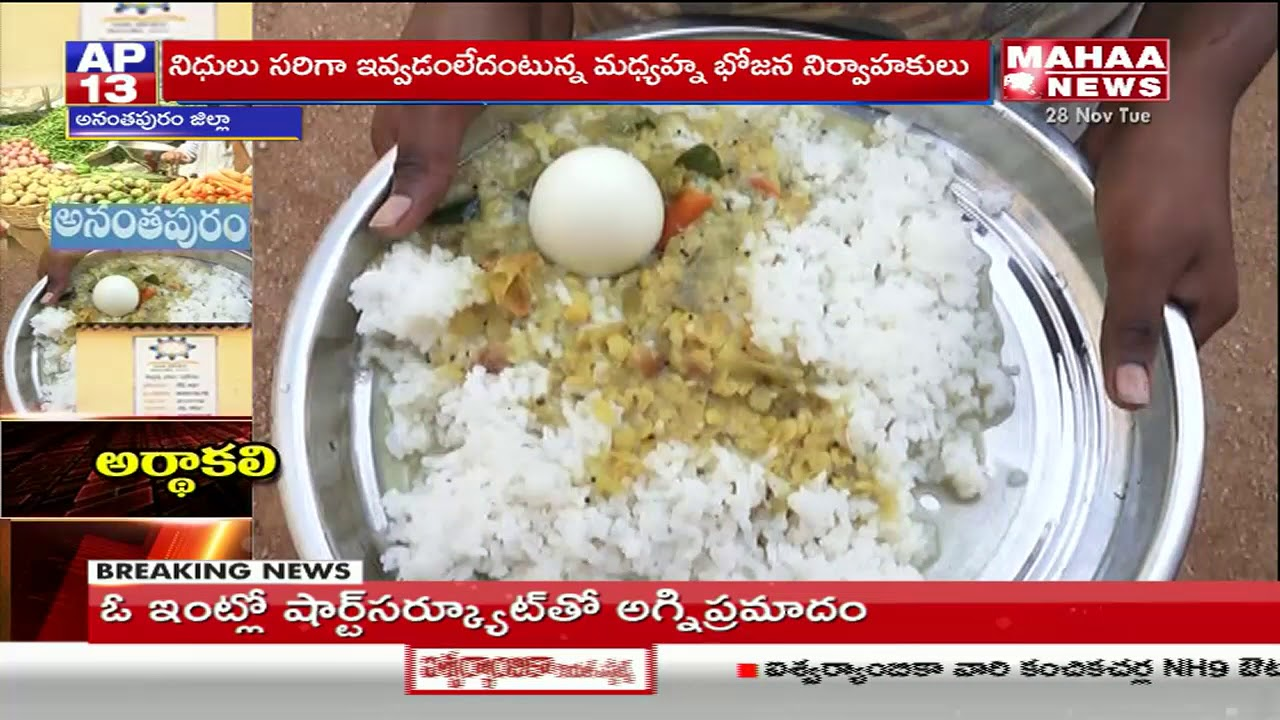egg: (520, 145, 683, 283)
rice: (358, 96, 1069, 611)
